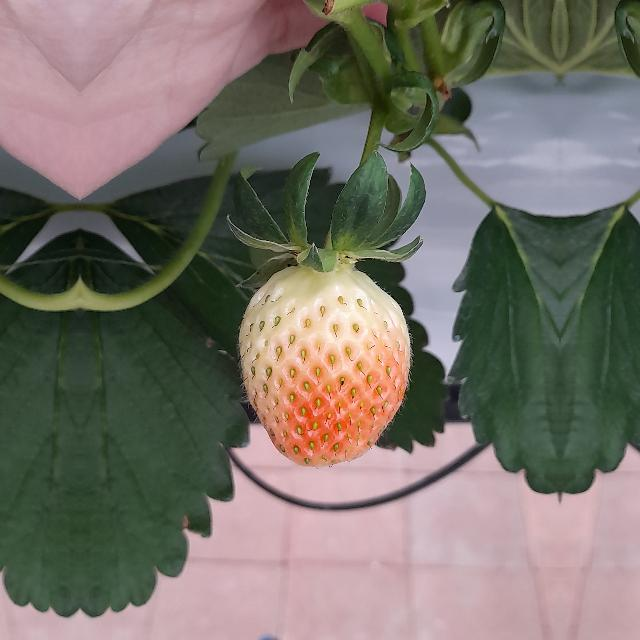Health_75: (238, 266, 410, 467)
